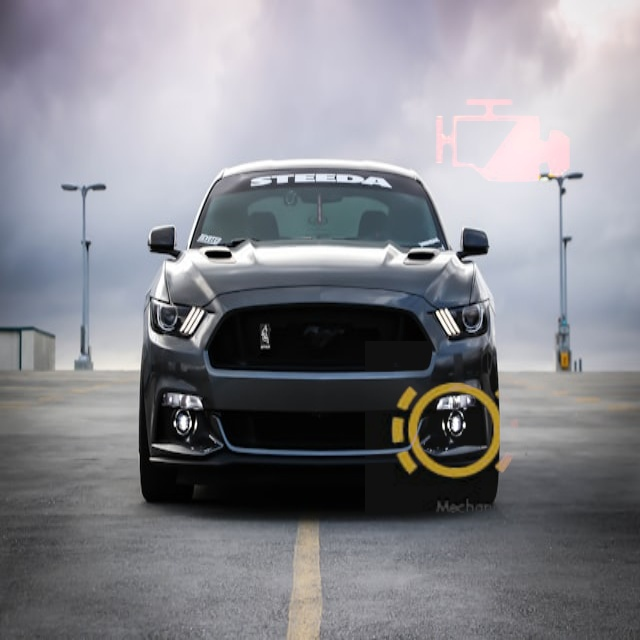symbol: (402, 42, 601, 241), (365, 341, 546, 522)
